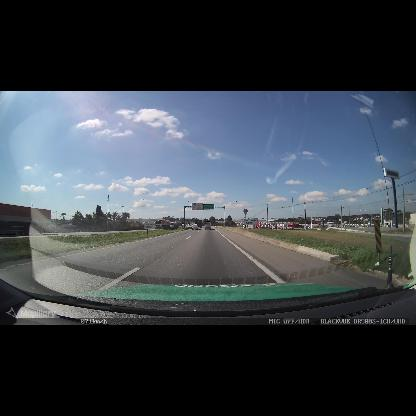I-SA: (244, 218, 257, 225), (144, 223, 156, 229)
O-MP: (374, 220, 382, 254), (182, 225, 184, 229)
R-19: (192, 203, 203, 210)
